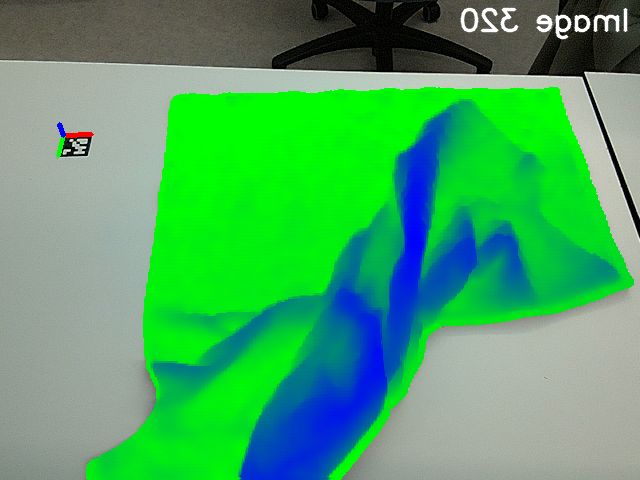V: (442, 95, 495, 133)
